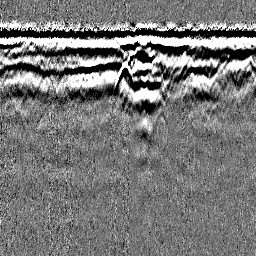cavity: (114, 60, 134, 93)
